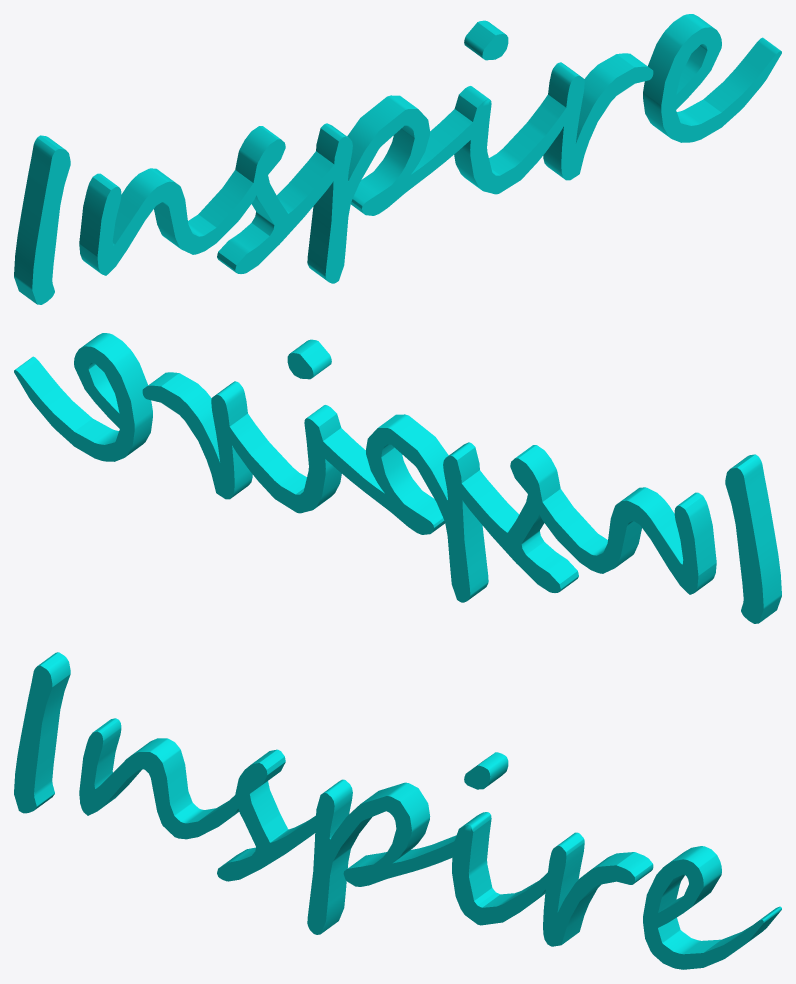
Rendered from Inspire_text.fbx.
3 views of the same model, one above another, from view 1: azimuth 30°, elevation 25°; view 2: azimuth 150°, elevation 25°; view 3: azimuth 330°, elevation 25° (orthographic).
Visible parts, largest first — view 1: Trim_Char_p_1_1, Trim_Char_n_1_1, Trim_Char_e_1_1, Trim_Char_s_1_1, Trim_Char_i_1_1, Trim_Char_I_1_1, Trim_Char_r_1_1; view 2: Trim_Char_p_1_1, Trim_Char_n_1_1, Trim_Char_e_1_1, Trim_Char_s_1_1, Trim_Char_i_1_1, Trim_Char_I_1_1, Trim_Char_r_1_1; view 3: Trim_Char_p_1_1, Trim_Char_n_1_1, Trim_Char_e_1_1, Trim_Char_i_1_1, Trim_Char_r_1_1, Trim_Char_I_1_1, Trim_Char_s_1_1.
Boxes of the visible parts, <box> form: Trim_Char_p_1_1: <box>307,95,484,283</box>; Trim_Char_n_1_1: <box>79,168,264,275</box>; Trim_Char_e_1_1: <box>643,14,781,142</box>; Trim_Char_s_1_1: <box>217,126,349,273</box>; Trim_Char_i_1_1: <box>454,20,572,194</box>; Trim_Char_I_1_1: <box>14,135,70,304</box>; Trim_Char_r_1_1: <box>543,53,653,180</box>; Trim_Char_p_1_1: <box>311,414,488,602</box>; Trim_Char_n_1_1: <box>531,487,716,594</box>; Trim_Char_e_1_1: <box>14,333,152,461</box>; Trim_Char_s_1_1: <box>446,445,578,592</box>; Trim_Char_i_1_1: <box>223,339,341,513</box>; Trim_Char_I_1_1: <box>725,454,781,623</box>; Trim_Char_r_1_1: <box>142,372,252,499</box>; Trim_Char_p_1_1: <box>307,779,466,934</box>; Trim_Char_n_1_1: <box>79,718,246,839</box>; Trim_Char_e_1_1: <box>643,846,781,969</box>; Trim_Char_i_1_1: <box>452,752,554,925</box>; Trim_Char_r_1_1: <box>543,832,653,946</box>; Trim_Char_I_1_1: <box>14,652,70,813</box>; Trim_Char_s_1_1: <box>217,749,328,881</box>.
Size of the model in its own units: 1.85 by 0.4926 by 0.0781.
